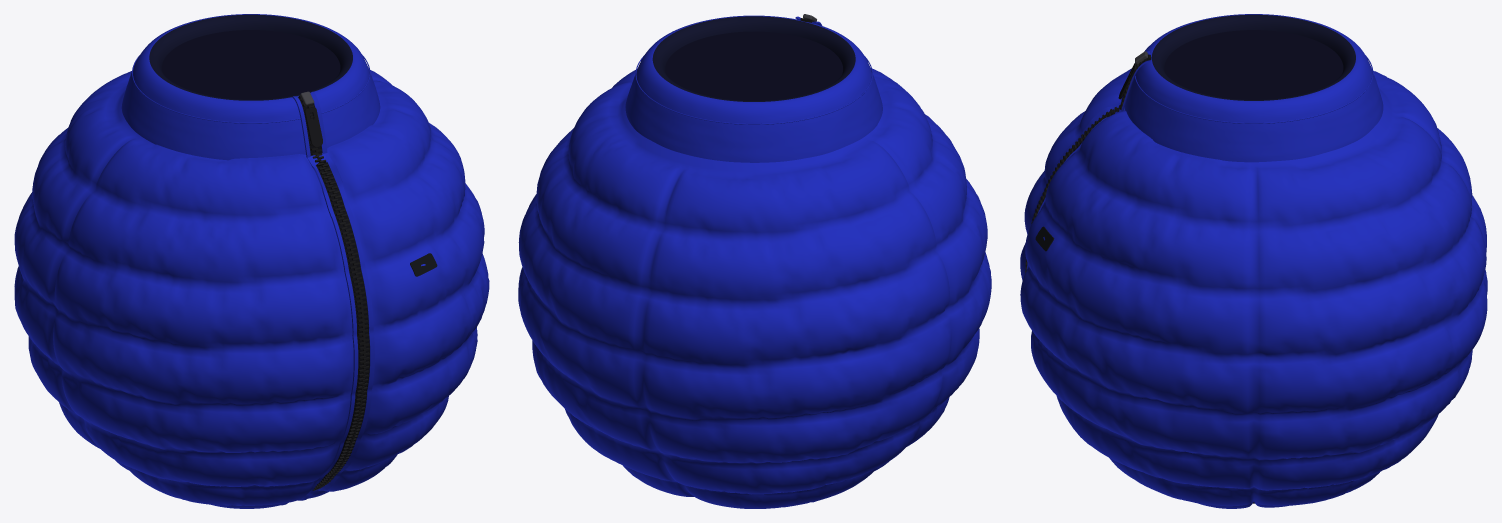
File: puffer-v2.glb
3 views of the same model, side by side, from view 1: azimuth 30°, elevation 25°; view 2: azimuth 150°, elevation 25°; view 3: azimuth 270°, elevation 25° (orthographic).
Parts seen in each view (by area): view 1: Puffer, Collar, NeckHole, StormFlap, CollarLining, ZipperTeeth, ZipperTape; view 2: Puffer, Collar, NeckHole, CollarLining; view 3: Puffer, Collar, NeckHole, CollarLining, ZipperTeeth, StormFlap.
Part boxes in pixels (box(x1,y1,x2,y2)): Puffer: box(14, 70, 489, 508); Collar: box(121, 14, 380, 160); NeckHole: box(162, 30, 340, 99); StormFlap: box(281, 91, 374, 505); CollarLining: box(149, 14, 352, 100); ZipperTeeth: box(299, 95, 369, 490); ZipperTape: box(298, 96, 369, 483); Puffer: box(518, 68, 991, 508); Collar: box(625, 15, 882, 162); NeckHole: box(665, 31, 842, 100); CollarLining: box(652, 16, 855, 101); Puffer: box(1020, 68, 1487, 508); Collar: box(1124, 14, 1383, 162); NeckHole: box(1164, 30, 1343, 99); CollarLining: box(1152, 14, 1355, 100); ZipperTeeth: box(1025, 54, 1151, 272); StormFlap: box(1026, 51, 1150, 269).
Size of the model in its own units: 1.98 by 2.02 by 1.98.
